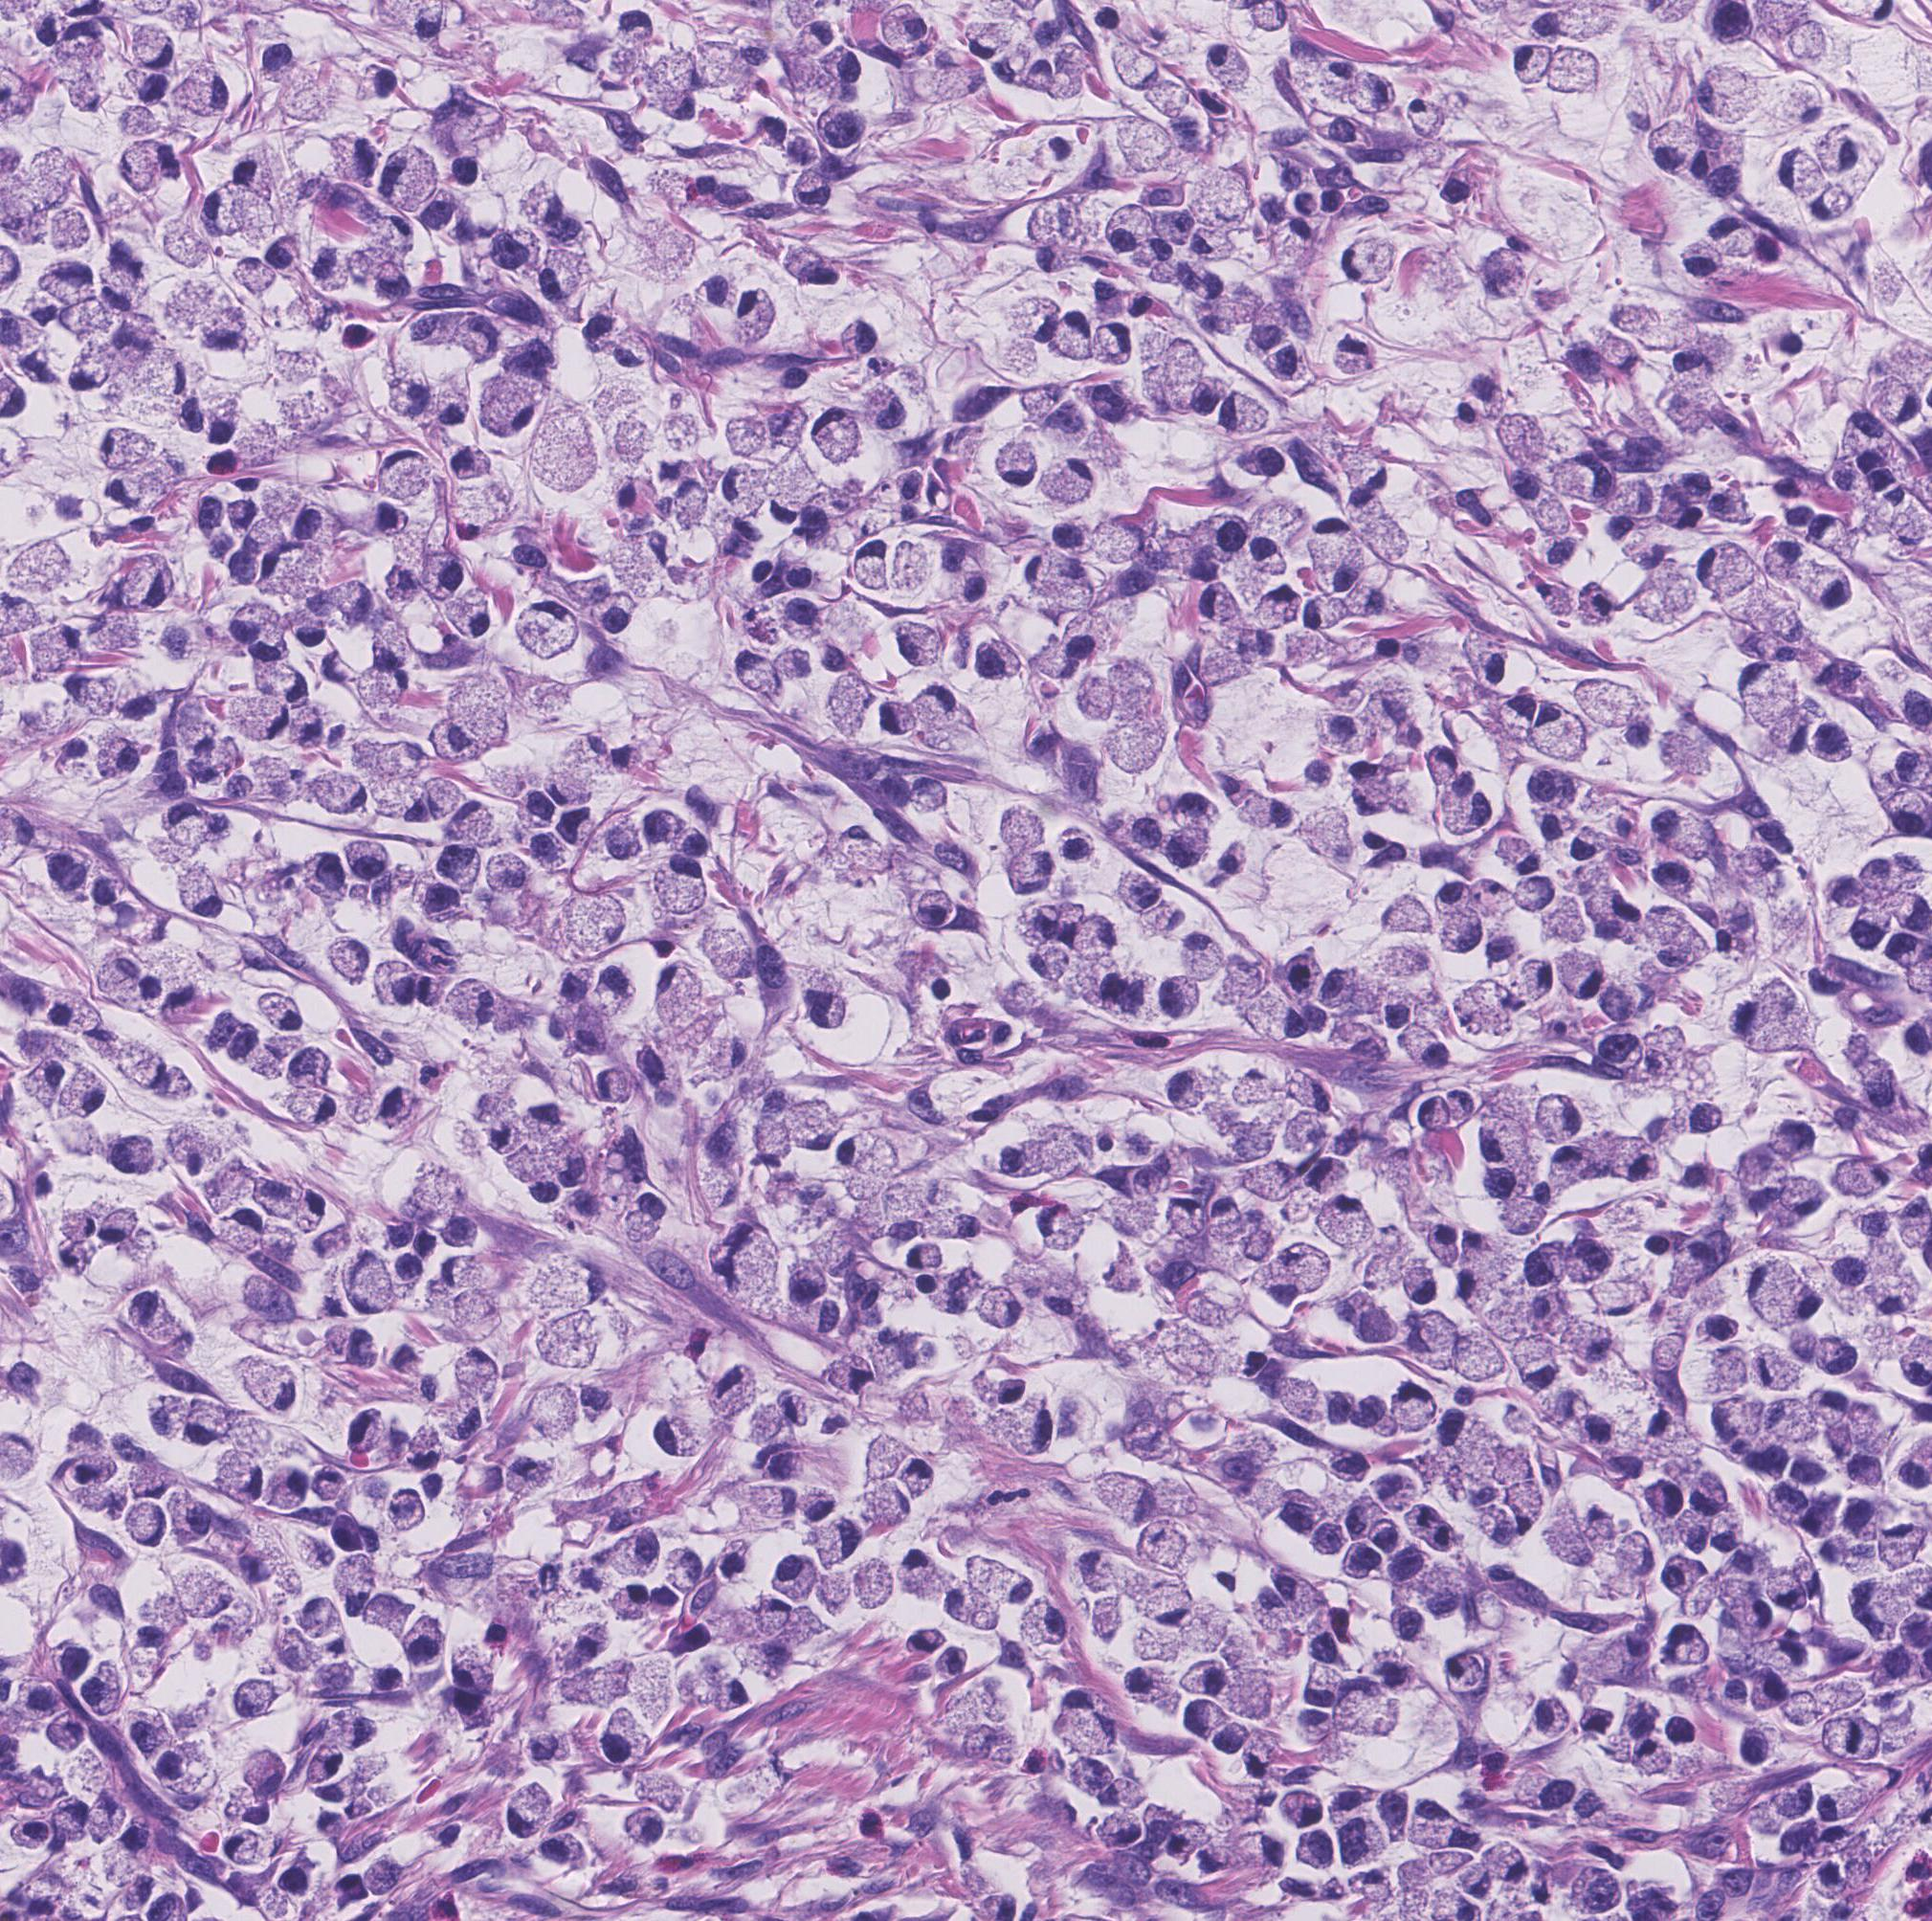ring_cell_cancer: (1735, 989, 1812, 1054), (707, 1223, 777, 1293), (1642, 904, 1707, 971), (1257, 1244, 1327, 1305), (563, 894, 635, 953), (840, 1135, 905, 1198), (1751, 1263, 1821, 1321), (116, 137, 185, 192), (200, 181, 262, 241), (373, 771, 434, 830), (357, 734, 427, 785), (171, 1564, 232, 1622), (1735, 663, 1798, 719), (1025, 556, 1088, 612), (1679, 1224, 1732, 1291), (374, 151, 436, 208), (520, 602, 580, 656), (1248, 505, 1297, 570), (819, 605, 868, 670), (969, 1553, 1035, 1601), (264, 537, 316, 596), (1849, 1578, 1904, 1634), (346, 1253, 396, 1314), (1652, 806, 1714, 855), (485, 376, 538, 433), (118, 561, 176, 612), (1067, 1689, 1113, 1752), (766, 470, 819, 524), (1754, 1340, 1807, 1395), (376, 449, 432, 500), (1401, 1309, 1457, 1360), (1313, 535, 1364, 591), (810, 405, 860, 463), (536, 1260, 603, 1302), (253, 658, 315, 704), (661, 855, 705, 918), (121, 1040, 174, 1092), (429, 719, 482, 772), (1304, 1662, 1355, 1717), (1250, 990, 1304, 1041), (28, 628, 84, 677), (1007, 296, 1062, 345), (1832, 1156, 1892, 1200), (1767, 1397, 1819, 1446), (1100, 1474, 1155, 1522), (1700, 70, 1754, 118), (42, 262, 98, 308), (46, 987, 102, 1033), (132, 1291, 178, 1348), (308, 774, 367, 816), (171, 873, 223, 920), (214, 1453, 267, 1501), (1698, 545, 1751, 593), (645, 77, 698, 125), (445, 799, 498, 846), (1443, 157, 1494, 204), (1652, 121, 1698, 174), (1257, 588, 1310, 633), (1322, 966, 1375, 1012), (1774, 84, 1828, 128), (1556, 456, 1610, 500), (1540, 700, 1582, 756), (916, 686, 963, 735), (1445, 786, 1493, 836), (993, 438, 1039, 489), (70, 670, 121, 716), (104, 427, 156, 471), (243, 1362, 295, 1406), (1042, 457, 1095, 501), (536, 246, 580, 299), (1378, 894, 1431, 938), (188, 1390, 229, 1446), (1326, 1196, 1373, 1244), (1765, 1567, 1812, 1615), (181, 72, 230, 118), (1329, 332, 1378, 378), (91, 955, 142, 999), (708, 1363, 752, 1414), (329, 135, 381, 178), (740, 1483, 793, 1525), (591, 1066, 643, 1108), (666, 1546, 708, 1599), (1593, 334, 1647, 375), (661, 966, 700, 1022), (589, 589, 635, 637), (656, 1407, 703, 1453), (1222, 389, 1267, 436), (1341, 237, 1387, 285), (1800, 561, 1849, 605), (606, 1710, 649, 1761), (782, 1107, 835, 1147), (513, 1777, 548, 1837), (1814, 135, 1874, 171), (817, 1522, 863, 1567), (70, 345, 114, 392), (860, 387, 907, 431), (1023, 1601, 1067, 1648), (1104, 208, 1151, 252), (362, 670, 411, 712), (232, 702, 288, 739), (334, 1559, 371, 1615), (723, 459, 765, 508), (1568, 1235, 1610, 1284), (457, 1348, 494, 1404), (1464, 633, 1507, 683), (1405, 1024, 1449, 1070), (1535, 1094, 1580, 1138), (1062, 616, 1108, 660), (1146, 1583, 1194, 1625), (900, 1550, 941, 1599), (1521, 1339, 1561, 1388), (1016, 843, 1053, 895), (243, 1750, 287, 1794), (1709, 215, 1753, 259), (612, 327, 654, 373), (1786, 1172, 1828, 1217), (1767, 702, 1809, 748), (441, 595, 489, 635), (288, 1085, 336, 1126), (541, 762, 589, 802), (69, 1066, 107, 1115), (606, 1534, 656, 1573), (1243, 792, 1292, 830), (1412, 1803, 1450, 1852), (304, 1742, 343, 1791), (1092, 1808, 1143, 1845), (230, 609, 283, 644), (350, 841, 394, 883), (1271, 1789, 1324, 1824), (1885, 1523, 1927, 1567), (610, 475, 654, 517), (1561, 950, 1602, 996), (267, 1467, 306, 1515), (330, 931, 367, 980), (1088, 1594, 1125, 1643), (738, 289, 774, 340), (1057, 310, 1092, 361), (1596, 1279, 1647, 1314), (262, 992, 304, 1034), (441, 1399, 483, 1441), (774, 1557, 816, 1599), (1041, 1205, 1085, 1245), (979, 1284, 1023, 1325), (1211, 1193, 1245, 1245), (81, 1666, 118, 1713), (1183, 932, 1220, 980), (1232, 1837, 1280, 1874), (371, 964, 413, 1004), (737, 654, 779, 695), (1614, 1534, 1654, 1576), (1811, 1386, 1853, 1427), (1176, 1659, 1227, 1692), (1076, 1553, 1120, 1592), (1670, 1618, 1709, 1662), (1774, 150, 1818, 188), (369, 625, 406, 670), (1014, 1406, 1051, 1451), (1171, 822, 1208, 867), (1533, 1694, 1570, 1740), (1296, 1068, 1333, 1114), (1818, 1789, 1874, 1819), (100, 737, 141, 778), (222, 1207, 262, 1247), (868, 1486, 909, 1527), (169, 806, 207, 848), (1549, 1147, 1591, 1186), (1679, 243, 1721, 281), (879, 697, 921, 735), (294, 1187, 330, 1231), (301, 1594, 338, 1638), (1482, 1117, 1519, 1161), (1519, 960, 1556, 1004), (1099, 517, 1143, 554), (856, 540, 888, 591), (1484, 1847, 1529, 1882), (1714, 1508, 1749, 1553), (1505, 691, 1540, 737), (1689, 1471, 1728, 1511), (754, 1597, 793, 1638), (1398, 1379, 1429, 1428), (1097, 318, 1132, 362), (1728, 1599, 1772, 1634), (710, 1676, 754, 1712), (900, 625, 933, 670), (1303, 598, 1348, 632), (1524, 1293, 1563, 1332), (425, 556, 462, 596), (439, 1251, 482, 1286), (1403, 1261, 1438, 1304), (1661, 1559, 1703, 1594), (1169, 1070, 1206, 1108), (1449, 911, 1485, 950), (1199, 586, 1236, 625), (348, 1409, 383, 1450), (1881, 380, 1916, 420), (327, 589, 369, 623), (97, 1209, 139, 1242), (411, 1620, 443, 1664), (163, 985, 199, 1024), (846, 322, 881, 361), (1434, 881, 1473, 917), (1647, 1481, 1686, 1516), (243, 522, 283, 556), (127, 1508, 163, 1543), (49, 1712, 83, 1750), (1767, 545, 1800, 584), (1125, 871, 1155, 913), (1180, 793, 1215, 829), (1503, 1198, 1540, 1231), (134, 1460, 165, 1499), (1821, 1340, 1862, 1370), (355, 69, 396, 99), (1315, 1156, 1348, 1191), (116, 1142, 155, 1172), (1457, 1868, 1493, 1900), (1570, 827, 1602, 862), (60, 1801, 90, 1838), (1431, 1224, 1459, 1263), (223, 1830, 253, 1861), (1034, 946, 1062, 980), (621, 1587, 645, 1618)
